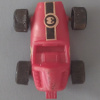rojo_norte: (15, 2, 85, 98)
